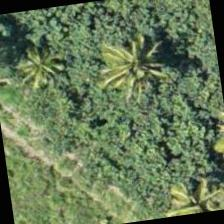Kelapa_Sawit: (84, 12, 186, 114), (0, 14, 91, 117), (151, 153, 223, 218)
